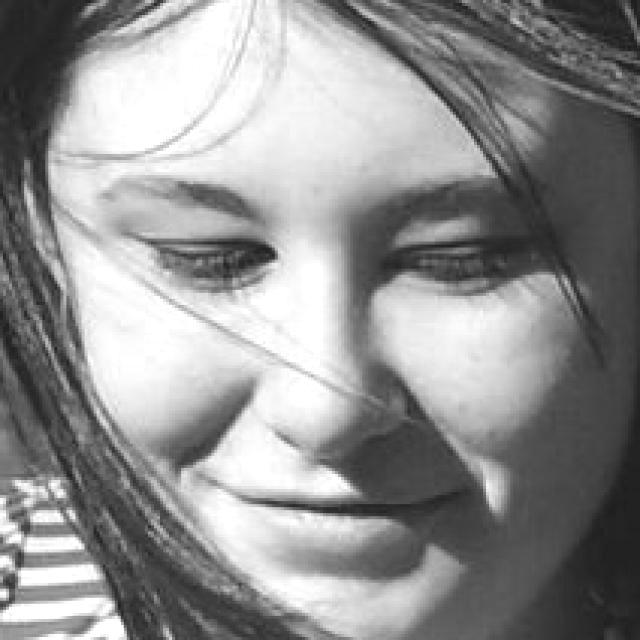real: (42, 0, 604, 640), (107, 186, 561, 306)
